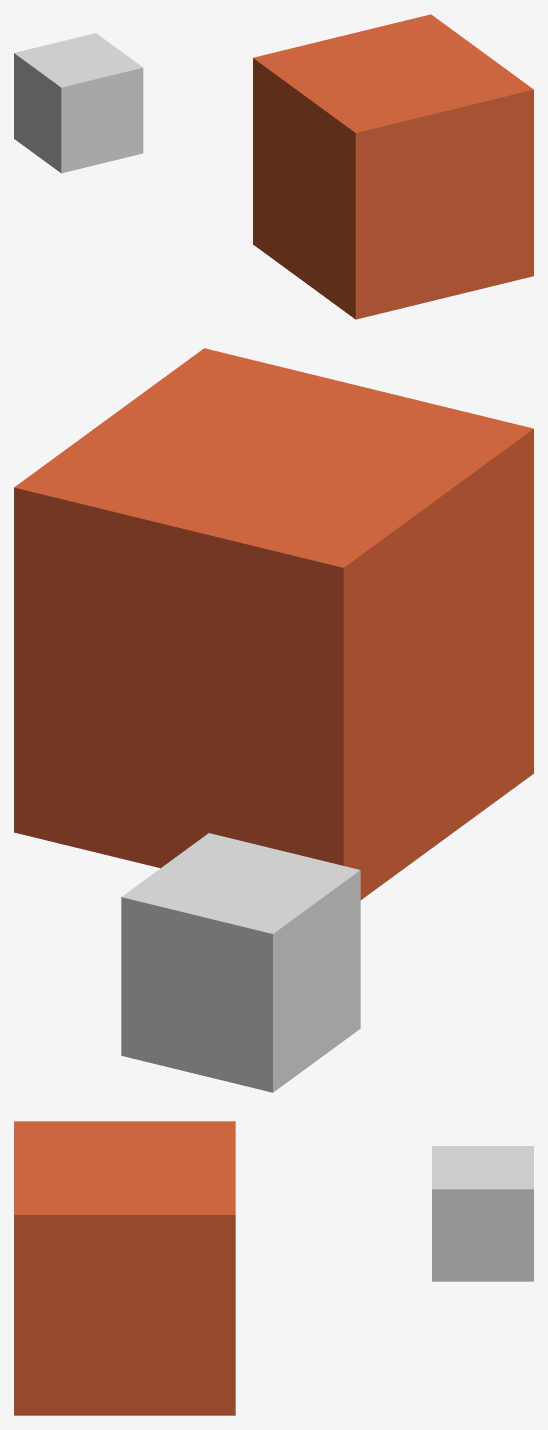
Rendered from cubes.glb.
3 renders of one model, top to bottom at view 1: azimuth 30°, elevation 25°; view 2: azimuth 150°, elevation 25°; view 3: azimuth 270°, elevation 25°, orthographic. The views are drawn at different scales.
Visible parts, largest first — view 1: Cube, Cube.001; view 2: Cube, Cube.001; view 3: Cube, Cube.001.
Boxes of the visible parts, box(x1,y1,x2,y2) form: Cube: box(253, 14, 533, 319); Cube.001: box(14, 33, 143, 173); Cube: box(14, 348, 533, 899); Cube.001: box(121, 833, 360, 1092); Cube: box(14, 1121, 235, 1415); Cube.001: box(432, 1146, 533, 1281).
Size of the model in its own units: 3.13 by 2 by 4.69.
